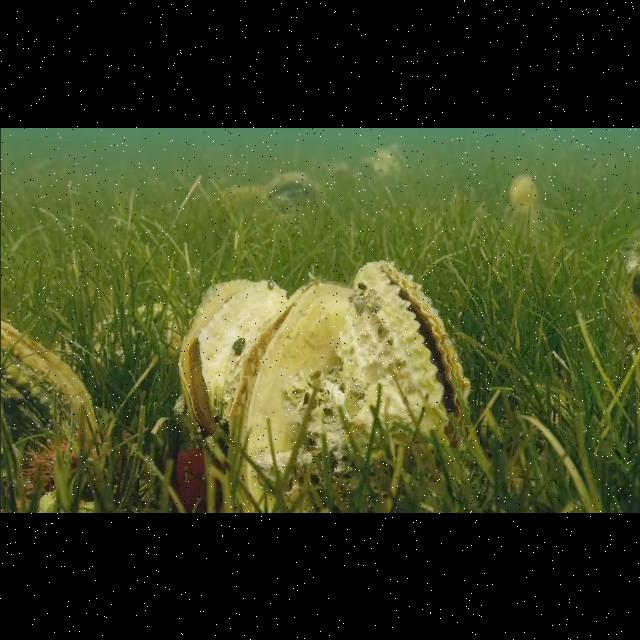Oyster-Closed: (0, 316, 98, 514), (258, 168, 318, 208)
Oyster-Open: (331, 258, 472, 494), (228, 277, 356, 513), (177, 276, 287, 448), (501, 168, 534, 216), (368, 140, 402, 178)
